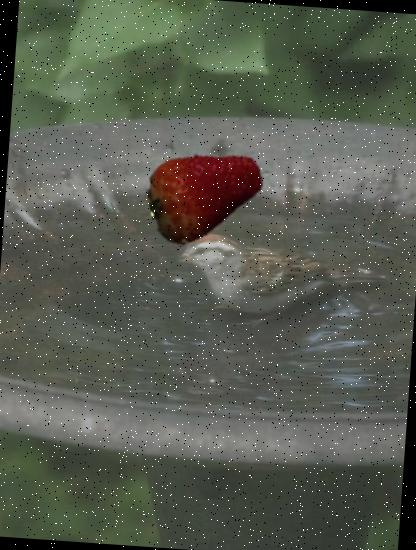Strawberry: (145, 134, 270, 260)
